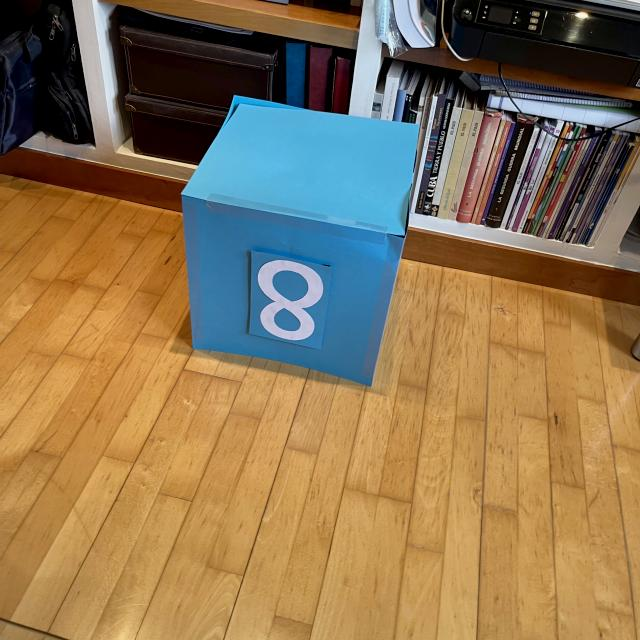box: (177, 92, 422, 388)
